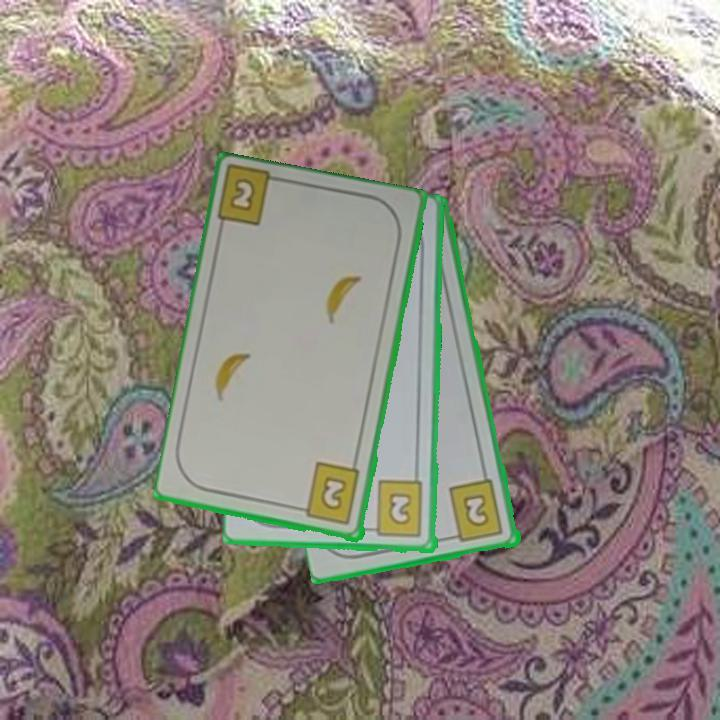2b: (294, 460, 363, 528), (445, 477, 507, 546), (364, 478, 426, 540), (226, 174, 259, 215)
